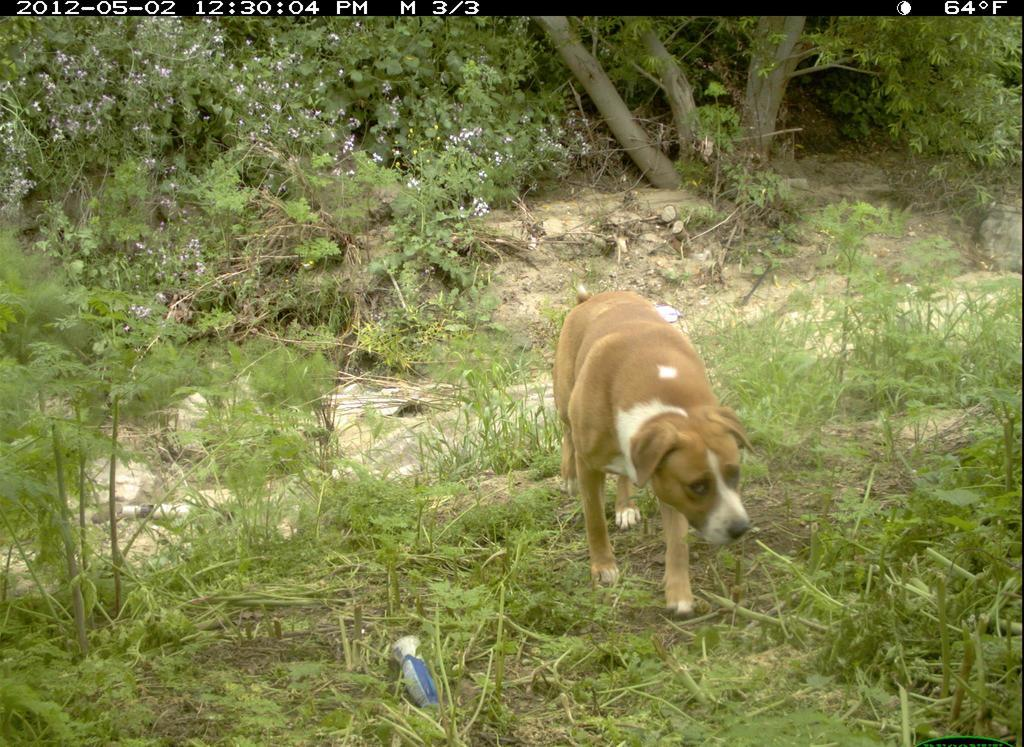dog: (546, 283, 758, 630)
